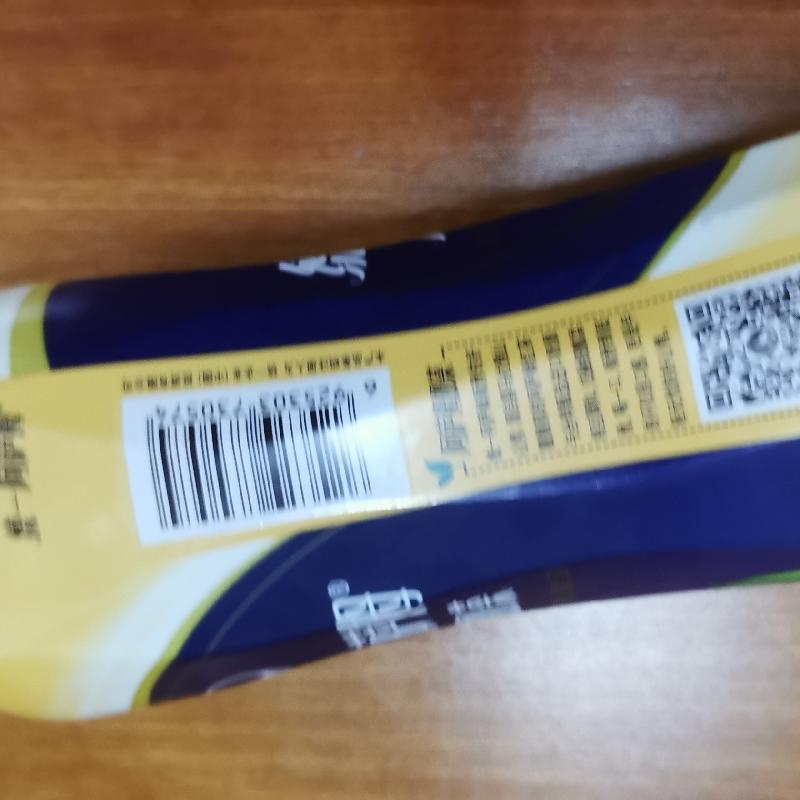bottles: (0, 124, 799, 724)
